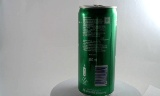sprite: (72, 4, 110, 95)
